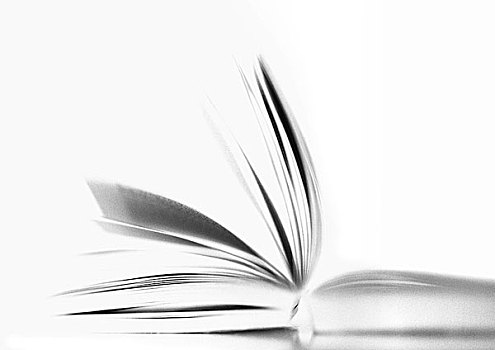book: (49, 40, 495, 331)
